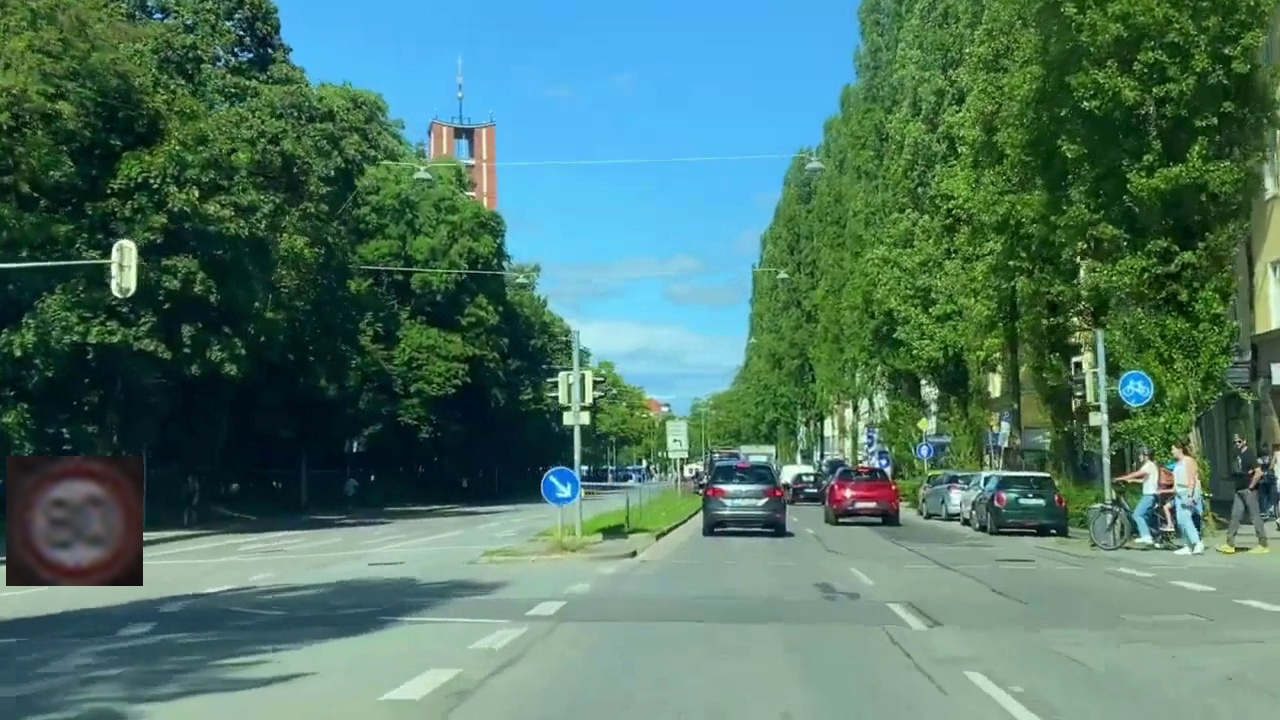Speed 80: (6, 456, 143, 586)
